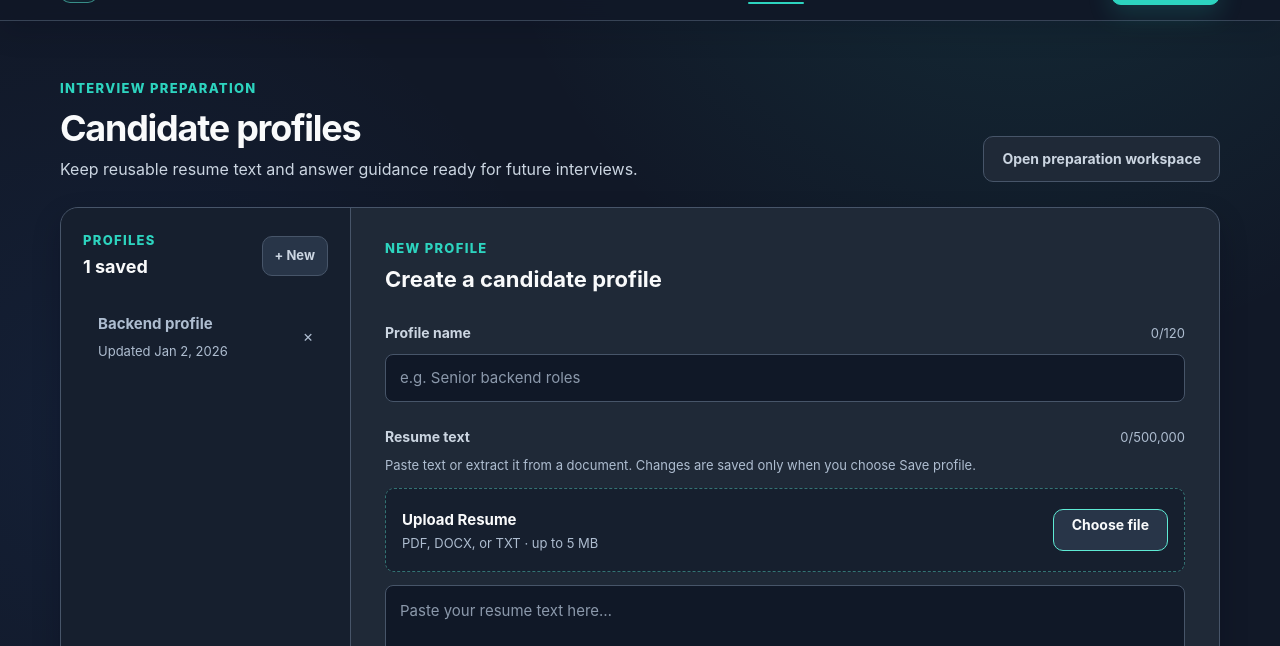
Test case: website routing and authentication › does not overwrite a profile changed in another session
Click the button "Backend profile Updated Jan 2, 2026": [182, 337] box [83,299,282,375]
(page scrolled)
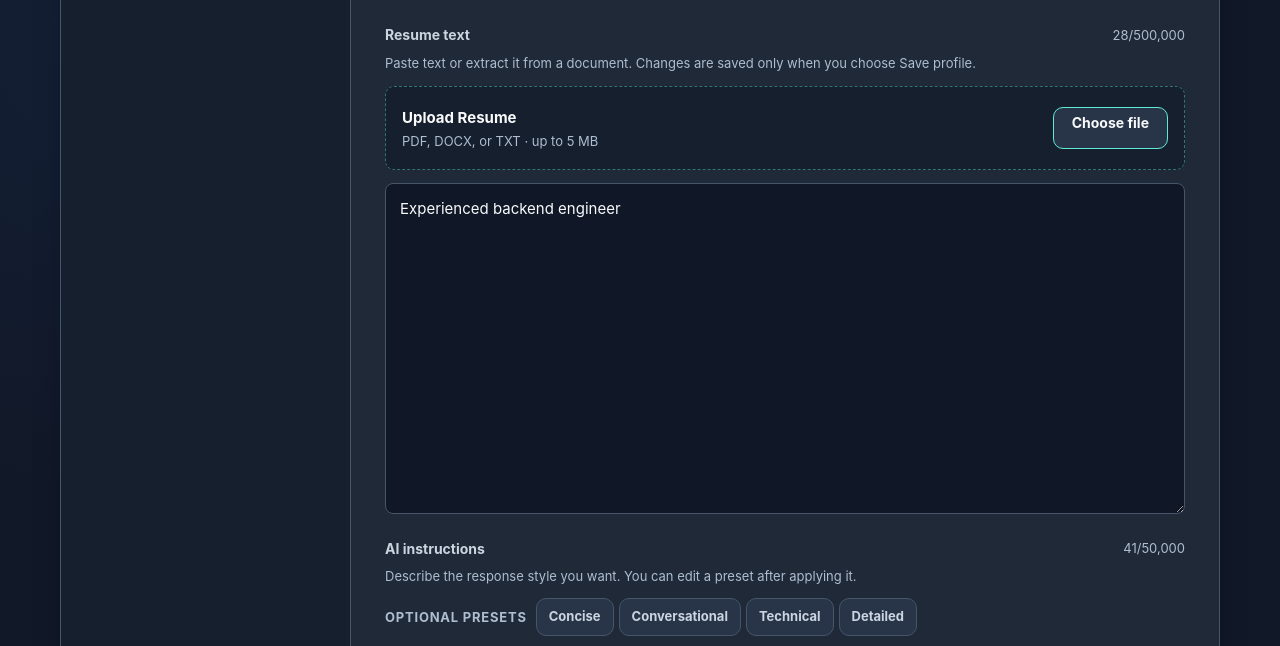
Expected: the text box showing "Experienced backend engineer" is shown
Replace the text in the text box named "resume text" with "Potentially stale edit": [785, 348] box [385,183,1185,514]
(page scrolled)
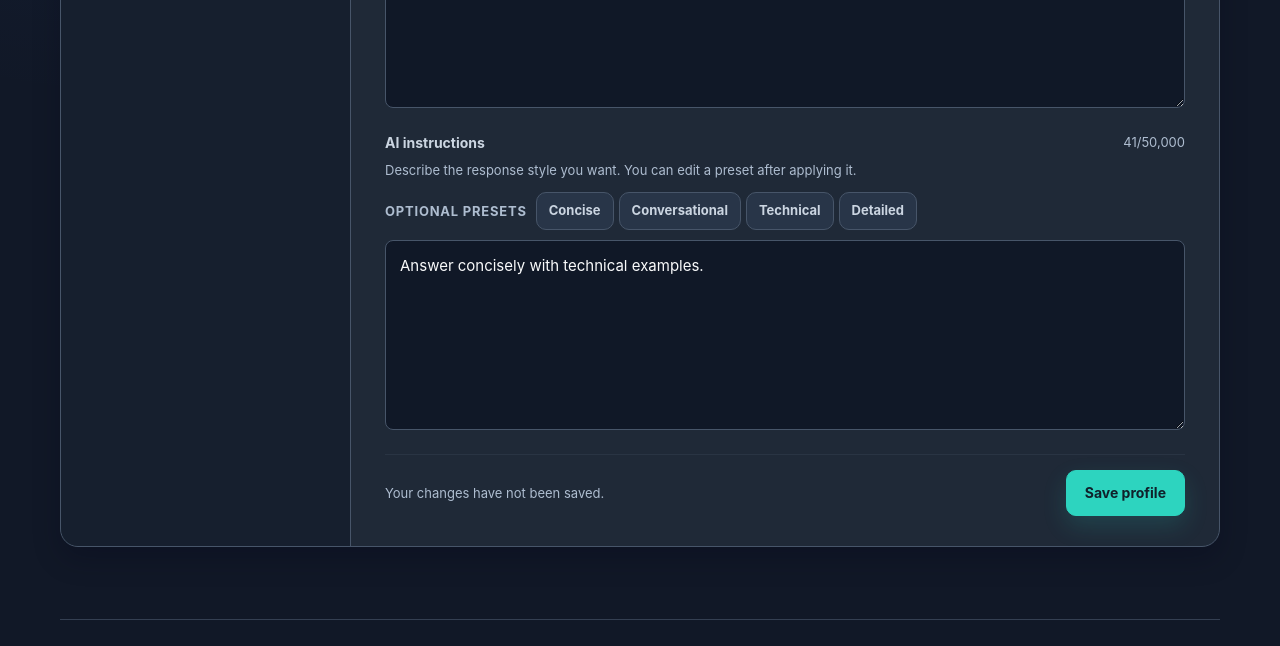
Click the button "Save profile": [1125, 493] box [1066,470,1185,516]
(page scrolled)
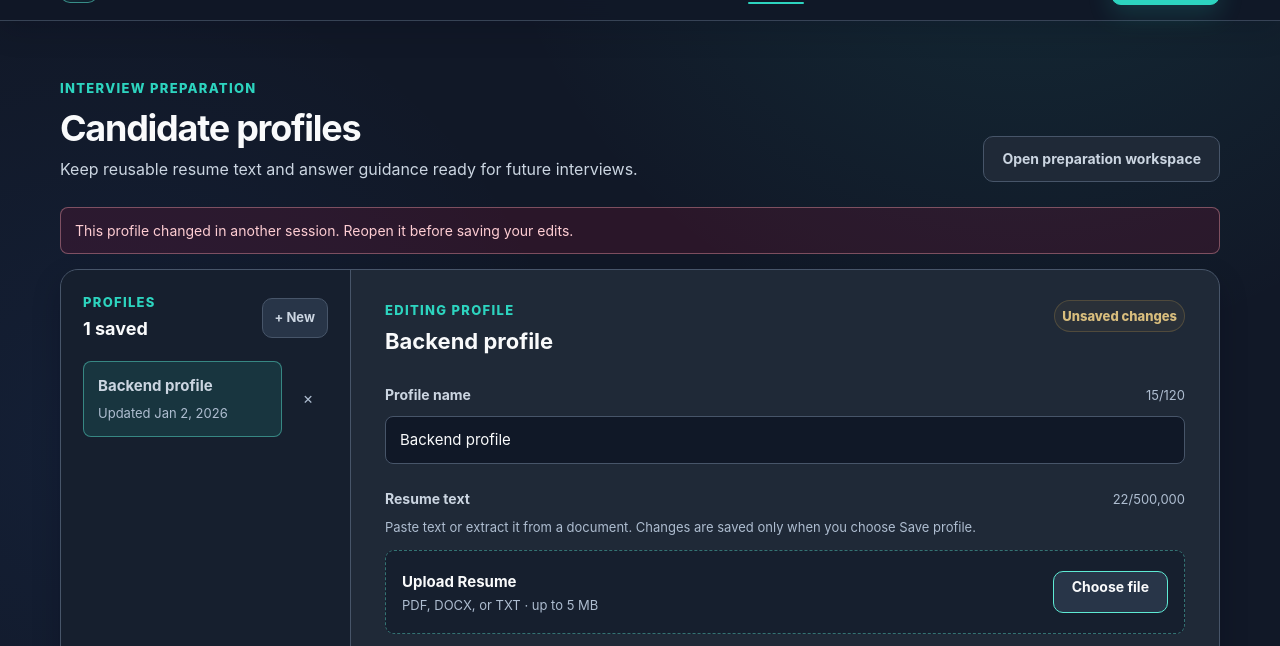
Expected: the message reads "This profile changed in another session. Reopen it before saving your edits.", [75,222,573,239]
